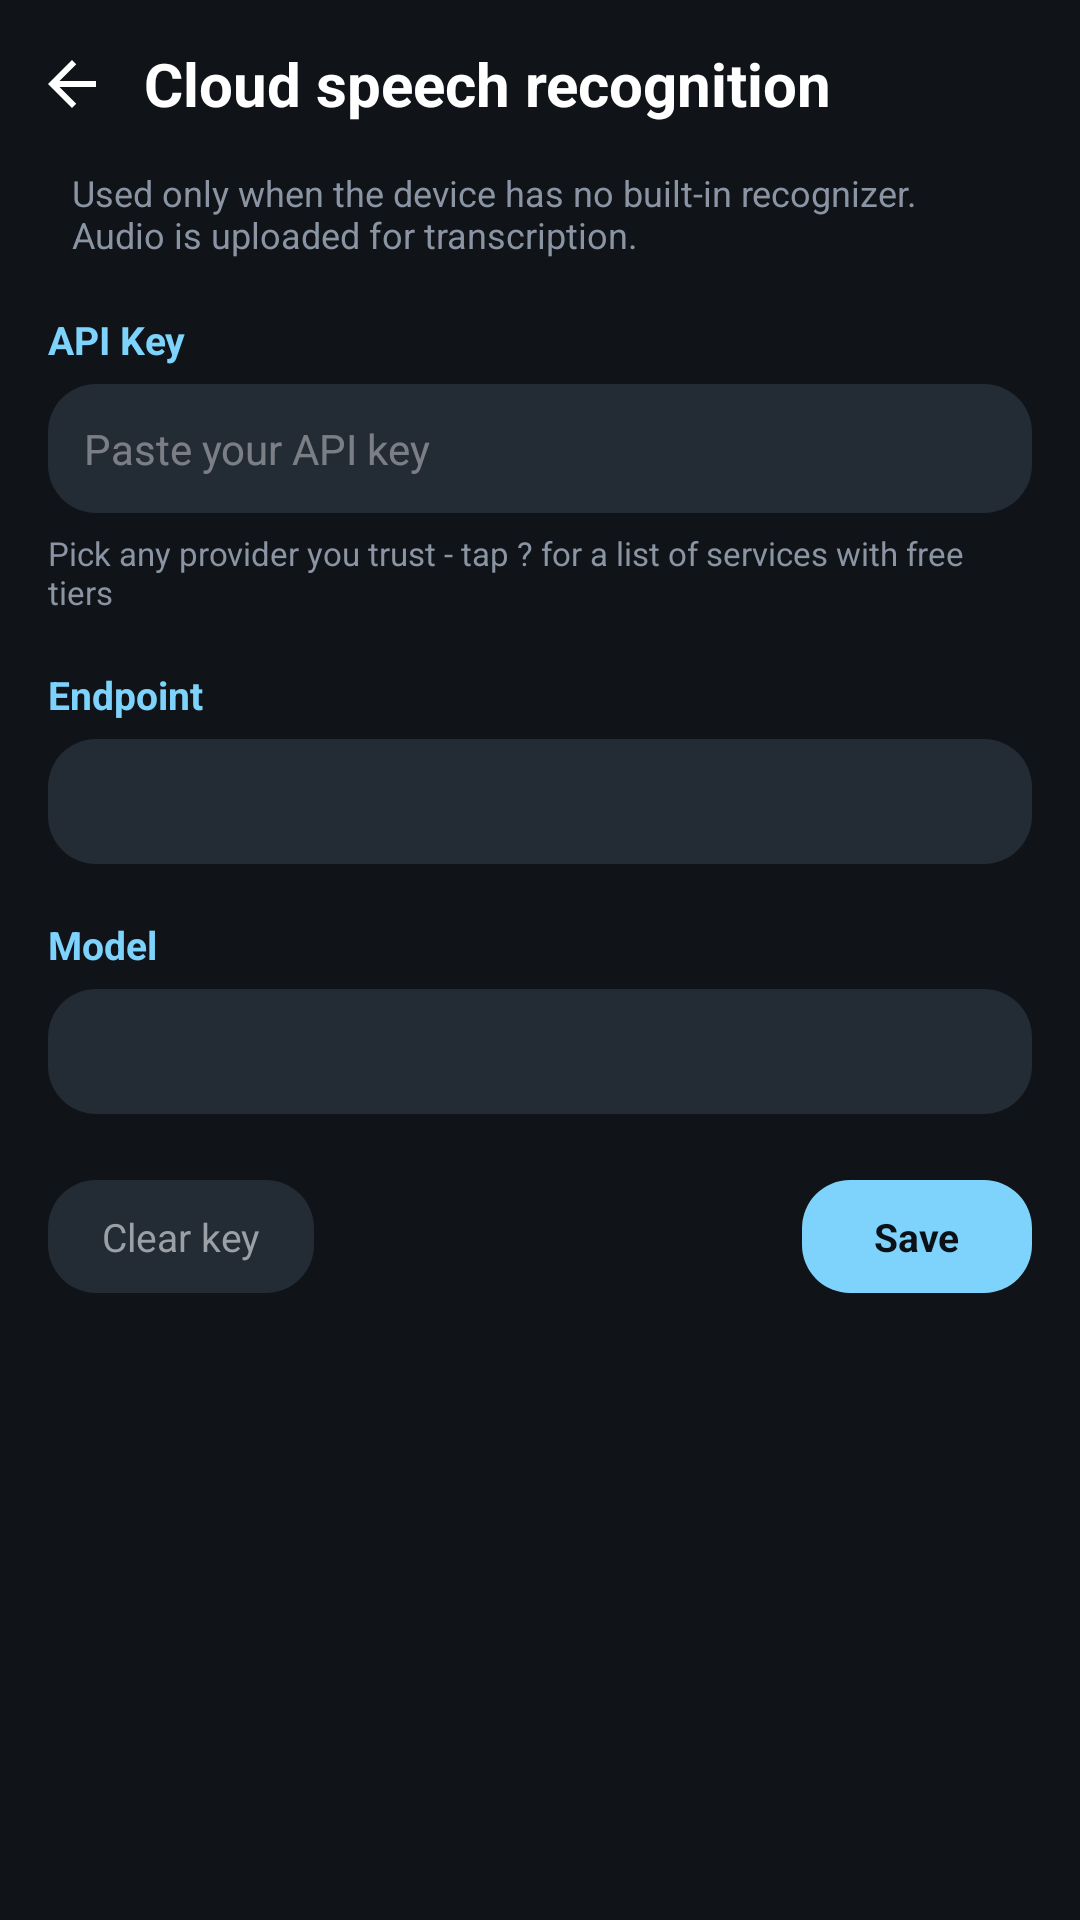

Screen size 1080*1920. Icon name, then its center in pixels as (x=x, y=y):
Back: (x=72, y=84)
